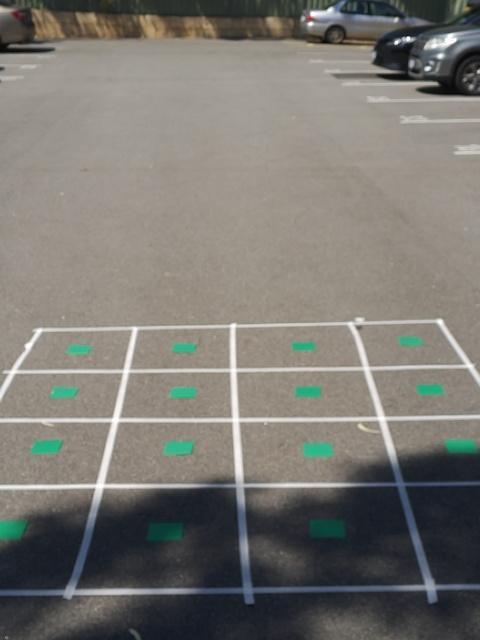weed: (147, 520, 185, 539), (312, 518, 345, 539), (0, 518, 30, 541), (444, 439, 479, 456), (302, 441, 334, 459), (31, 438, 64, 455), (163, 440, 196, 456), (168, 385, 198, 400), (416, 382, 444, 396), (293, 386, 324, 398), (66, 344, 93, 356), (50, 387, 77, 399), (398, 335, 422, 347), (292, 340, 316, 351), (172, 341, 196, 351)
